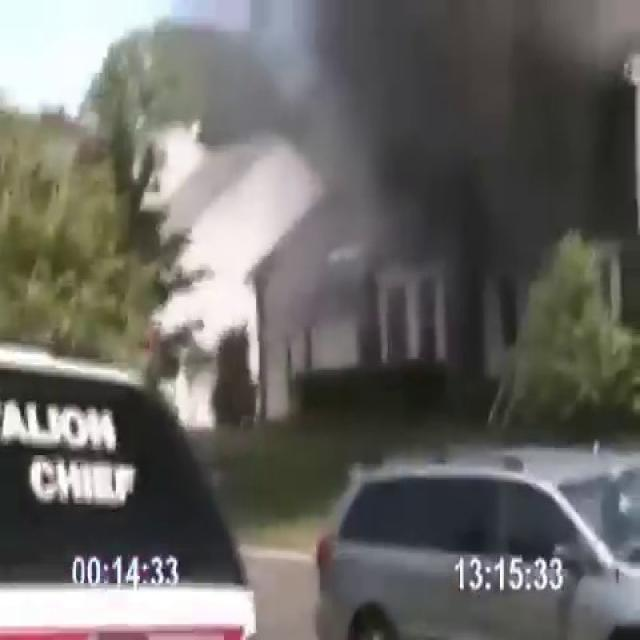Smoke: (261, 0, 634, 348)
